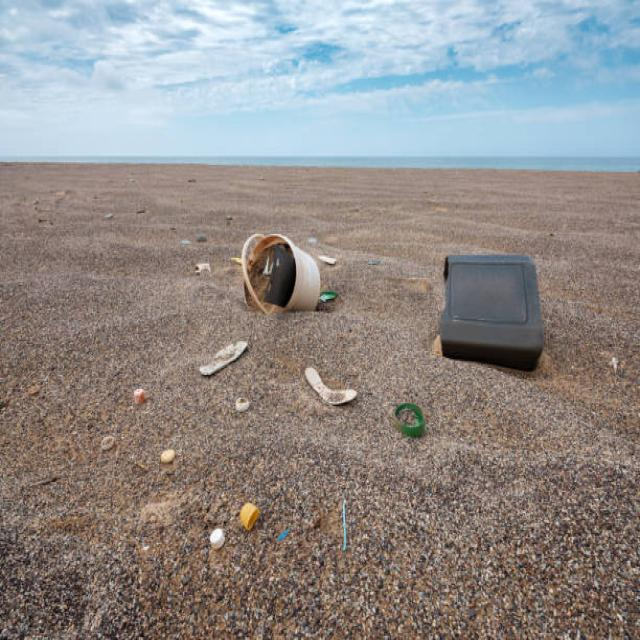plastic: (433, 240, 539, 372), (235, 220, 316, 324)
